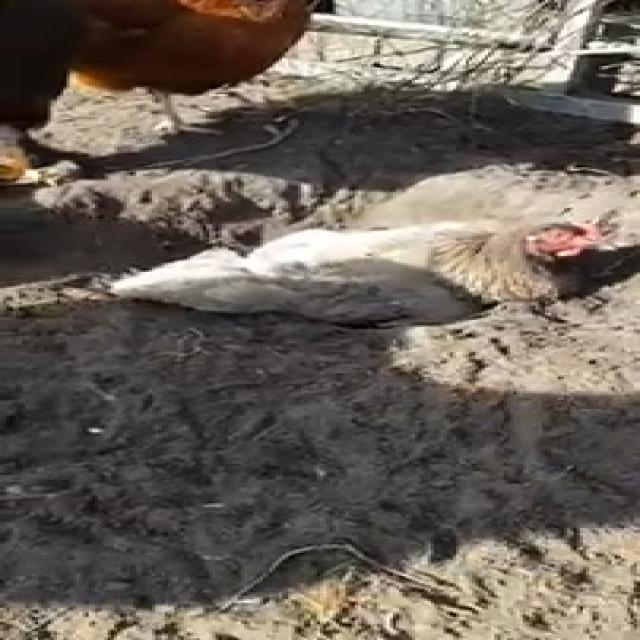stand bath: (95, 181, 624, 379)
